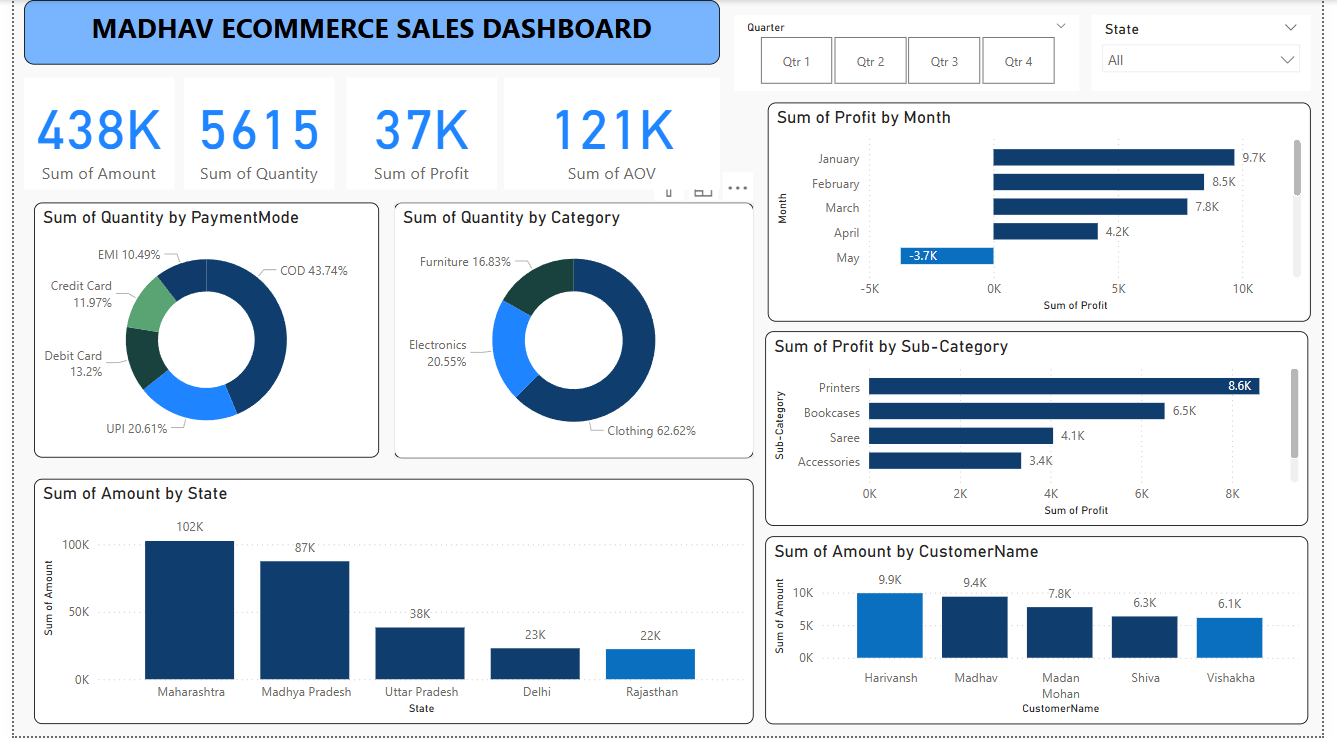

The page's visual inventory and layout, read from the dashboard file:
{"tool":"powerbi","page":{"name":"Page 1","canvas":[1280,720],"ordinal":0},"visuals":[{"type":"textbox","box":[9.6,0,680.6,63.1],"z":0},{"type":"clusteredBarChart","fields":{"Category":["Orders.Order Date.Variation.Date Hierarchy.Month"],"Y":["Details.Profit"]},"box":[736.9,100.2,531,214.1],"z":1000},{"type":"barChart","fields":{"Category":["Details.Sub-Category"],"Y":["Details.Profit"]},"box":[735.5,323.8,531,190.7],"z":2000},{"type":"donutChart","fields":{"Category":["Details.Category"],"Y":["Details.Quantity"]},"box":[371.7,198.1,352.2,250.7],"z":3000},{"type":"donutChart","fields":{"Category":["Details.PaymentMode"],"Y":["Details.Quantity"]},"box":[19.2,197.6,337.6,249.7],"z":4000},{"type":"card","fields":{"Values":["Details.Amount"]},"box":[9.6,75.5,146.8,109.8],"z":5000},{"type":"card","fields":{"Values":["Details.Quantity"]},"box":[166,75.5,146.8,109.8],"z":6000},{"type":"card","fields":{"Values":["Details.Profit"]},"box":[325.2,75.5,146.8,109.8],"z":7000},{"type":"card","fields":{"Values":["Details.AOV"]},"box":[478.9,75.5,211.3,109.8],"z":8000},{"type":"columnChart","fields":{"Category":["Orders.State"],"Y":["Details.Amount"]},"box":[19.2,467.9,703.9,240.1],"z":9000},{"type":"columnChart","fields":{"Category":["Orders.CustomerName"],"Y":["Details.Amount"]},"box":[735.5,524.2,531,183.9],"z":10000},{"type":"slicer","fields":{"Values":["Orders.Order Date.Variation.Date Hierarchy.Quarter"]},"box":[703.9,15.1,337.6,74.1],"z":11000},{"type":"slicer","fields":{"Values":["Orders.State"]},"box":[1053.9,15.1,214.1,74.1],"z":12000}]}

Visuals, with their boxes in screenshot pixels (x1, y1, x2, y2), scaled from the page's 1280x720 canvas onto the 1337x742 screenshot:
textbox: 10 0 721 65
clusteredBarChart - Orders.Order Date.Variation.Date Hierarchy.Month x Details.Profit: 770 103 1324 324
barChart - Details.Sub-Category x Details.Profit: 768 334 1323 530
donutChart - Details.Category x Details.Quantity: 388 204 756 463
donutChart - Details.PaymentMode x Details.Quantity: 20 204 373 461
card - Details.Amount: 10 78 163 191
card - Details.Quantity: 173 78 327 191
card - Details.Profit: 340 78 493 191
card - Details.AOV: 500 78 721 191
columnChart - Orders.State x Details.Amount: 20 482 755 730
columnChart - Orders.CustomerName x Details.Amount: 768 540 1323 730
slicer - Orders.Order Date.Variation.Date Hierarchy.Quarter: 735 16 1088 92
slicer - Orders.State: 1101 16 1324 92
